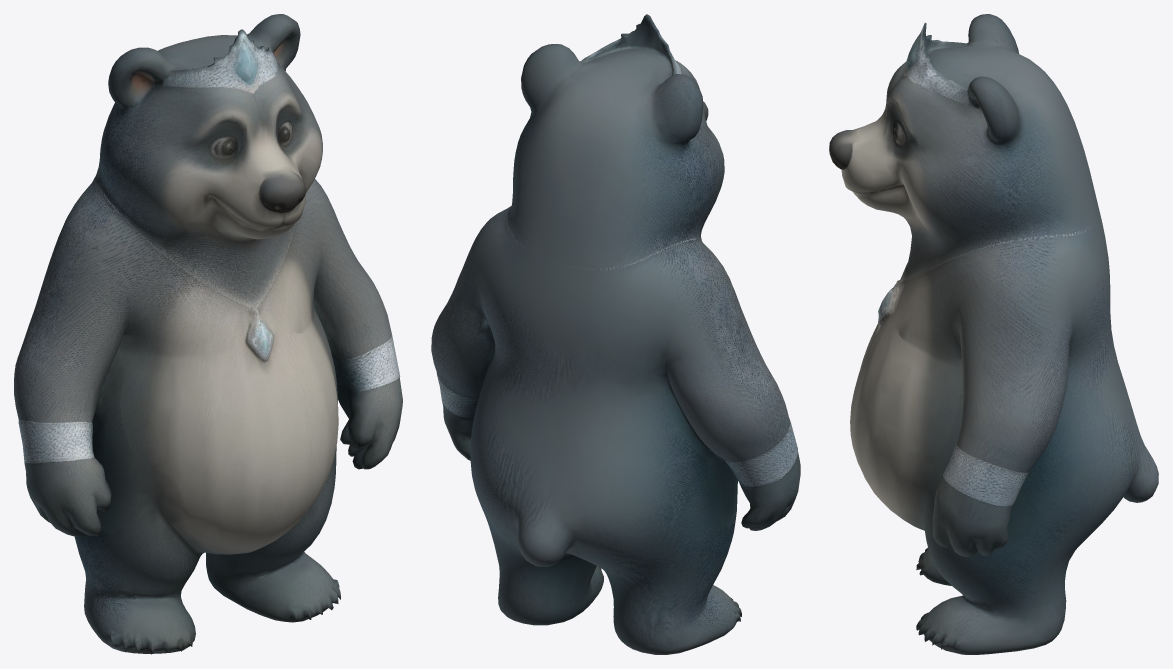
The model's file is howey.glb.
3 renders of one model, left to right at view 1: azimuth 30°, elevation 25°; view 2: azimuth 150°, elevation 25°; view 3: azimuth 270°, elevation 25°, orthographic. The views are drawn at different scales.
Parts seen in each view (by area): view 1: Howey_Companion; view 2: Howey_Companion; view 3: Howey_Companion.
Boxes of the visible parts, <box> form: Howey_Companion: <box>14,14,402,654</box>; Howey_Companion: <box>431,14,800,654</box>; Howey_Companion: <box>829,14,1158,654</box>.
Size of the model in its own units: 1.12 by 1.78 by 0.915.
Materials: 1 (1 with a texture image).
